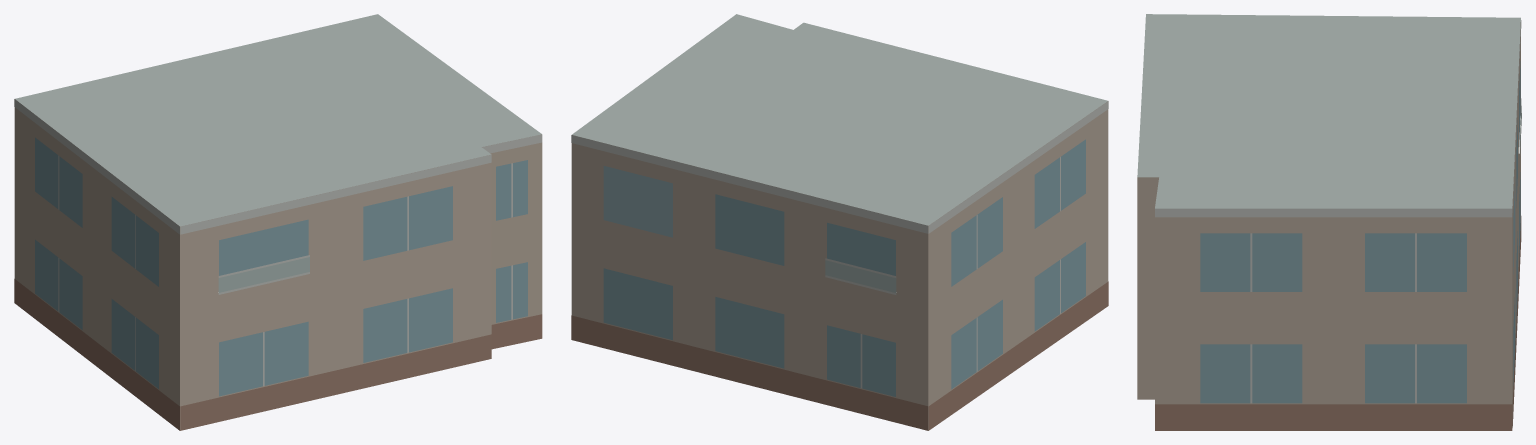
The model's file is survey-upis-32837856.glb.
3 renders of one model, left to right at view 1: azimuth 30°, elevation 25°; view 2: azimuth 150°, elevation 25°; view 3: azimuth 270°, elevation 25°, orthographic. The views are drawn at different scales.
Visible parts, largest first — view 1: survey-upis-32837856.tmp; view 2: survey-upis-32837856.tmp; view 3: survey-upis-32837856.tmp.
Part boxes in pixels (bbox=[...]): survey-upis-32837856.tmp: bbox=[14, 14, 542, 430]; survey-upis-32837856.tmp: bbox=[571, 14, 1108, 430]; survey-upis-32837856.tmp: bbox=[1137, 14, 1521, 430].
Bounding box in the file's own units: 11.46 × 6.1 × 9.57.
